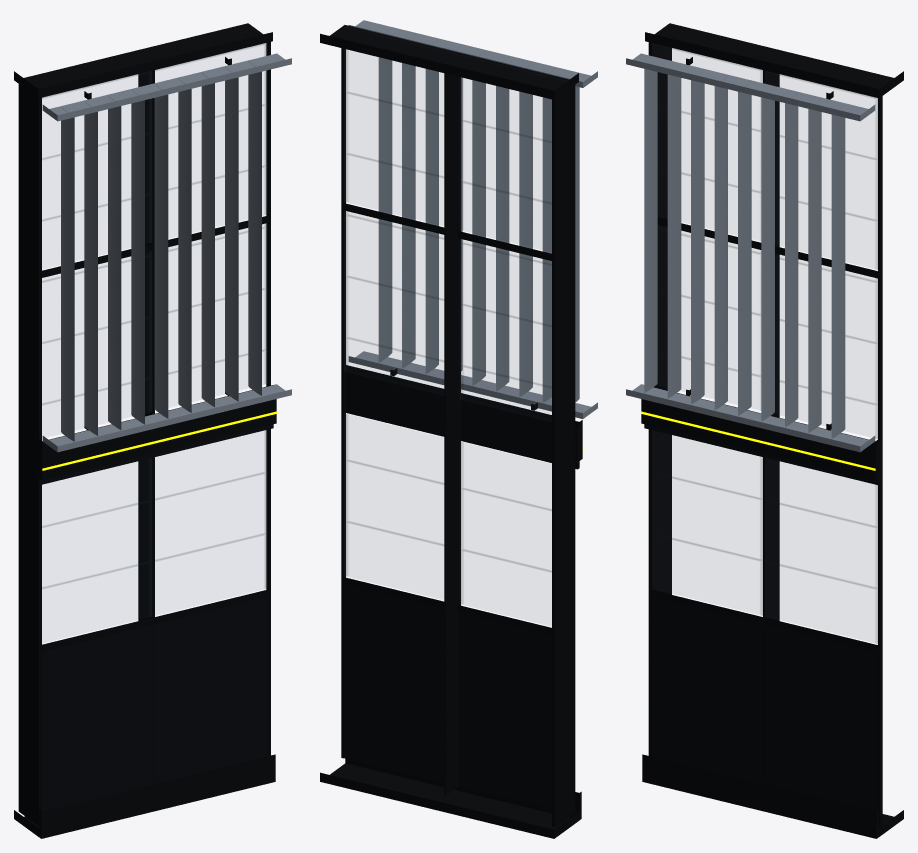
3 views of the same model, side by side, from view 1: azimuth 30°, elevation 25°; view 2: azimuth 150°, elevation 25°; view 3: azimuth 330°, elevation 25° (orthographic).
Visible parts, largest first — view 1: Leaf_Louvres, Frame, Slate_Panels, Slab_Band_Step, Glass_3, Glass_2, Slab_Band_Slate, Glass_6, Glass_4, Glass_7, Glass_5, Slab_Band_Court_Line; view 2: Frame, Leaf_Louvres, Slate_Panels, Slab_Band_Slate, Glass_5, Glass_4, Glass_3, Glass_7, Glass_2, Slab_Band_Step, Glass_6; view 3: Leaf_Louvres, Slate_Panels, Frame, Slab_Band_Step, Slab_Band_Slate, Glass_3, Glass_2, Glass_7, Glass_5, Slab_Band_Court_Line, Glass_6, Glass_4.
Boxes of the visible parts, x1,y1,x2,y2 form: Leaf_Louvres: (42,53,291,452); Frame: (14,23,275,838); Slate_Panels: (42,597,268,811); Slab_Band_Step: (39,384,276,480); Glass_3: (155,430,267,588); Glass_2: (42,458,152,616); Slab_Band_Slate: (37,385,273,485); Glass_6: (42,71,152,242); Glass_4: (42,251,152,411); Glass_7: (155,43,267,214); Glass_5: (168,223,267,383); Slab_Band_Court_Line: (42,411,276,470); Frame: (320,25,581,838); Leaf_Louvres: (348,20,597,418); Slate_Panels: (343,584,551,808); Slab_Band_Slate: (346,369,579,469); Glass_5: (344,211,443,371); Glass_4: (460,239,551,399); Glass_3: (344,413,443,576); Glass_7: (344,27,443,201); Glass_2: (460,442,551,604); Slab_Band_Step: (346,365,582,460); Glass_6: (460,77,551,230); Leaf_Louvres: (626,53,875,452); Slate_Panels: (651,597,877,811); Frame: (642,23,903,838); Slab_Band_Step: (641,384,878,480); Slab_Band_Slate: (644,387,880,485); Glass_3: (765,485,877,643); Glass_2: (652,457,762,615); Glass_7: (765,71,877,269); Glass_5: (775,256,877,438); Slab_Band_Court_Line: (641,411,875,470); Glass_6: (652,43,762,240); Glass_4: (658,227,760,409).
Bounding box in the file's own units: 4 × 12.2 × 1.29.
5 materials, 4 textured.
